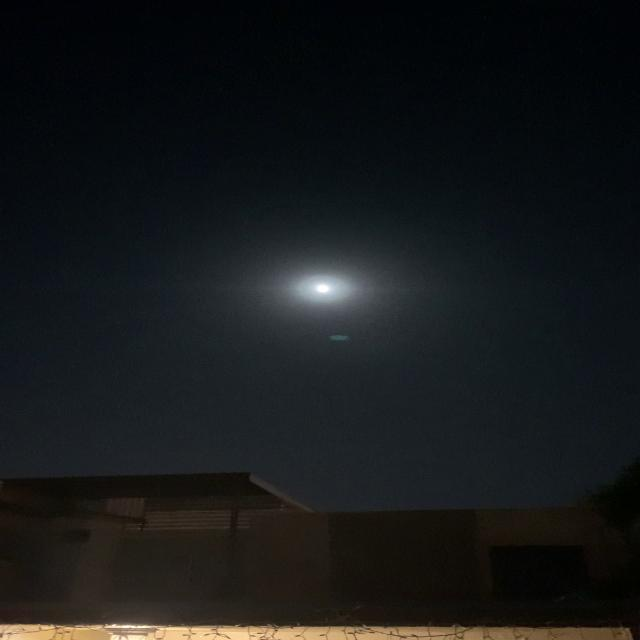moon: (302, 276, 354, 301)
